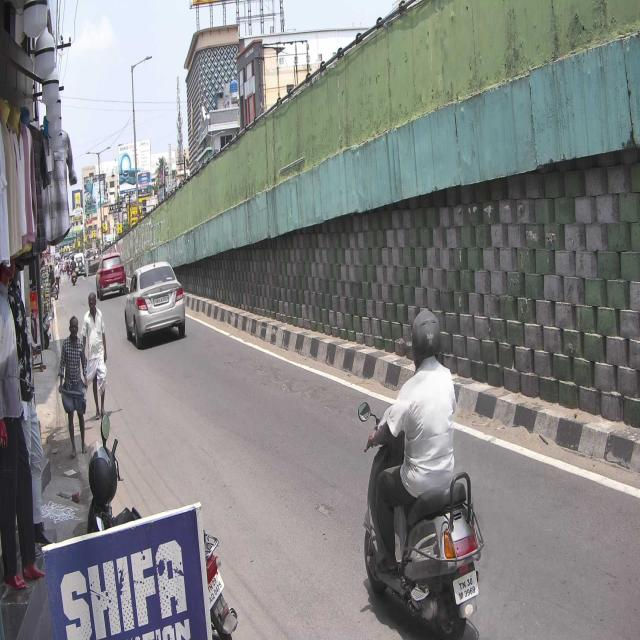single_rider: (359, 309, 485, 636)
